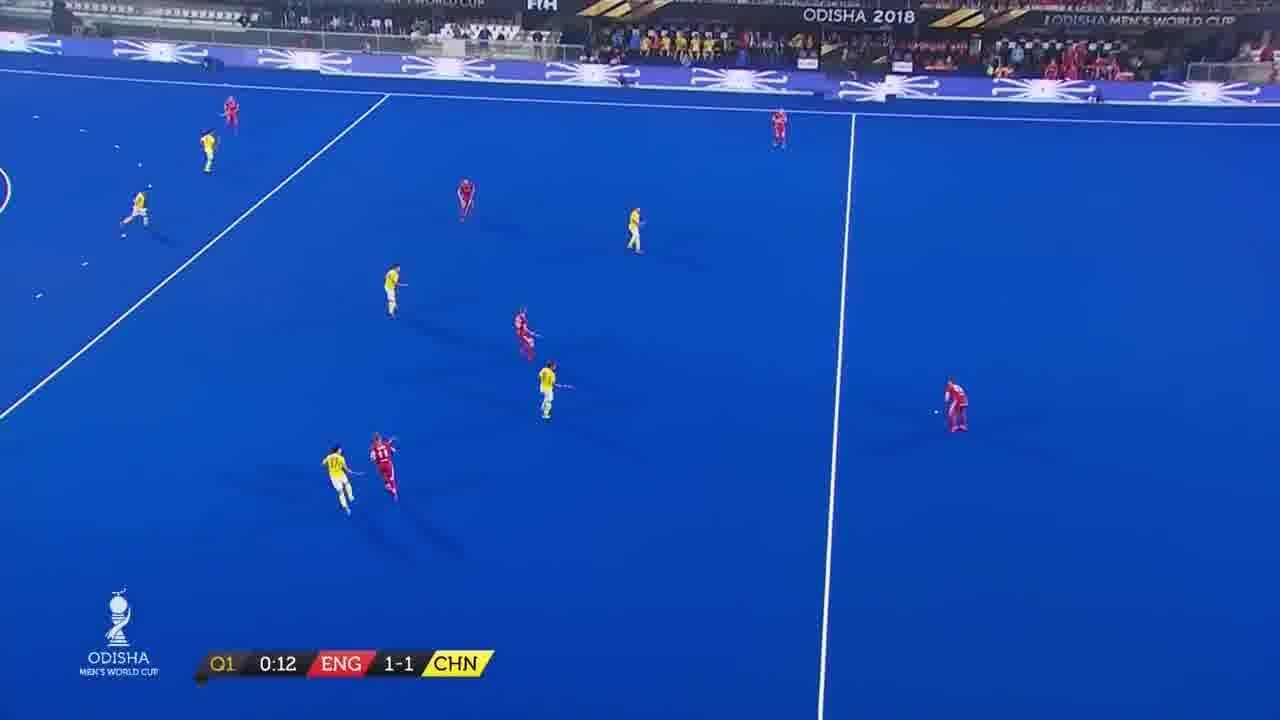ball: (934, 405, 940, 421)
